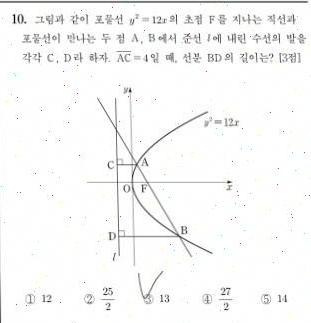choice: (138, 284, 155, 307)
not-choice: (23, 292, 37, 306), (82, 292, 96, 306), (200, 293, 213, 305), (260, 293, 272, 305)
